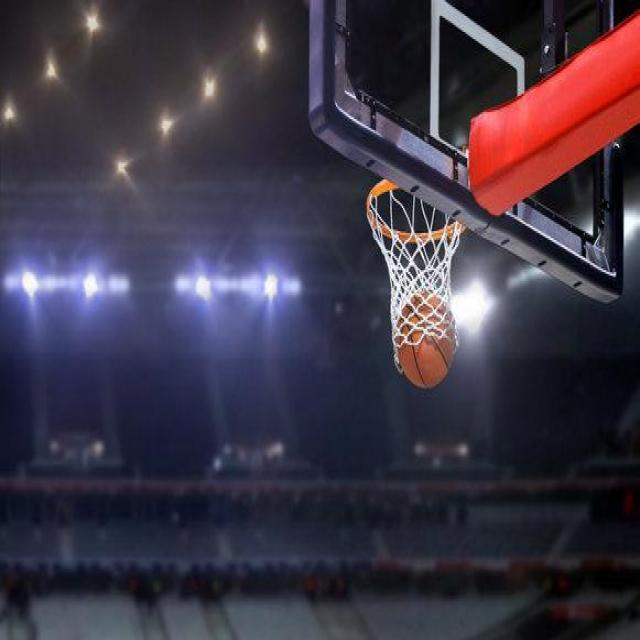Basketball: (394, 290, 458, 388)
hoop: (367, 180, 466, 372)
